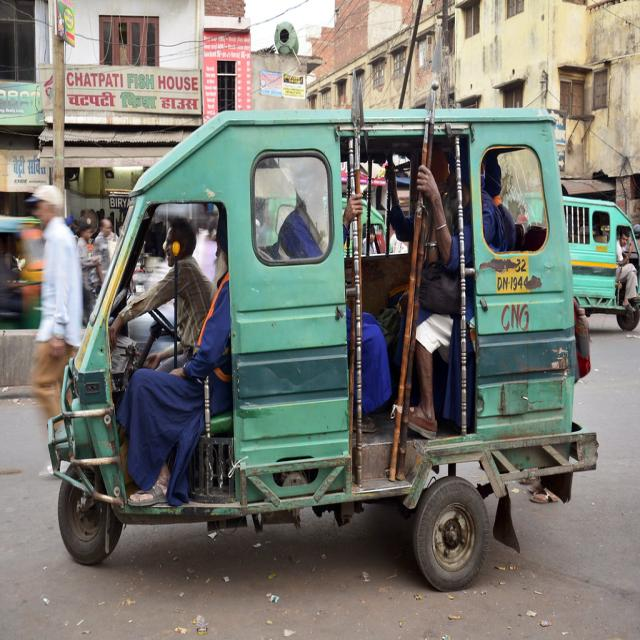autorickshaw: (49, 109, 596, 591)
